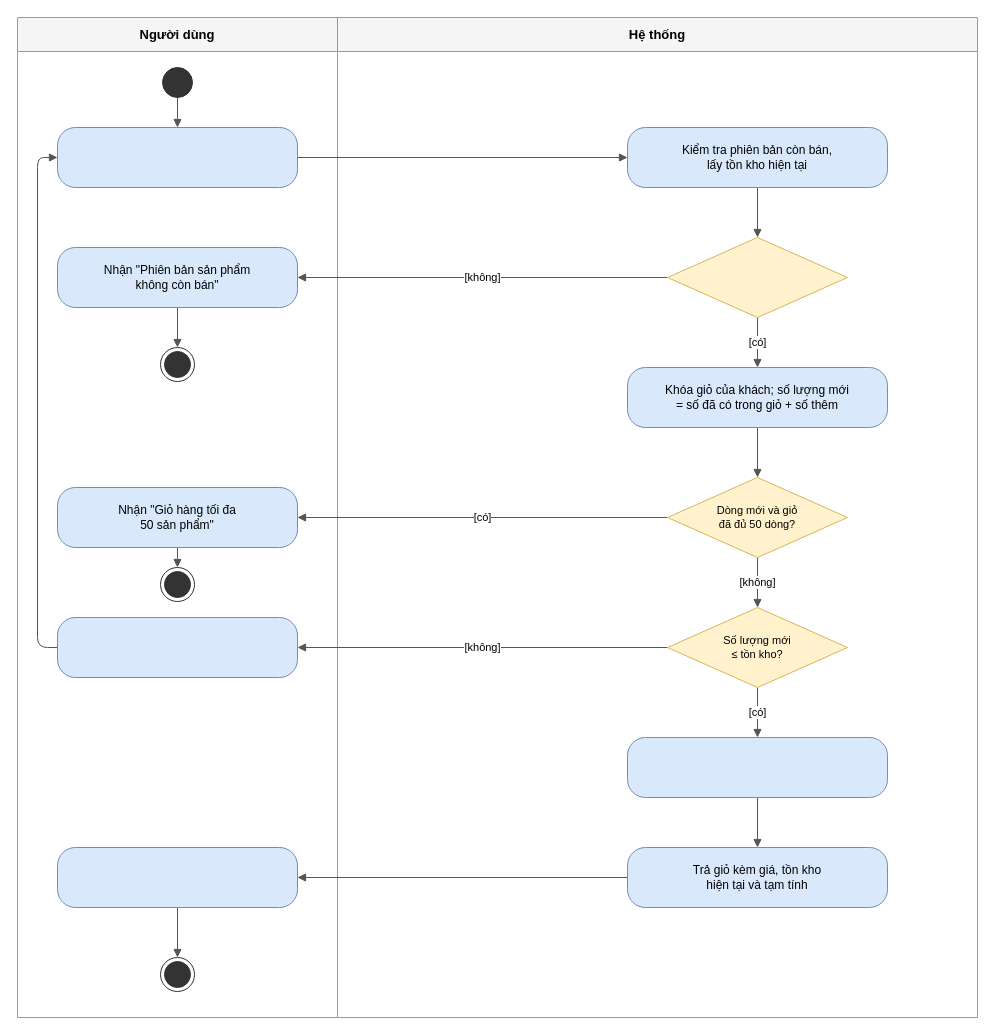
Some shapes in this 995 by 1035 pixel diagram are drawn without their labels. The box of each missing label's shape, as (x1, y1, x2, y2) in pixels:
Chọn phiên bản, số lượng, bấm Thêm vào giỏ: (56, 126, 298, 188)
Còn bán?: (666, 236, 848, 318)
Lưu dòng giỏ (thêm mới hoặc cập nhật số lượng): (626, 736, 888, 798)
Nhận "Chỉ còn N sản phẩm trong kho", giảm số lượng: (56, 616, 298, 678)
Xem giỏ hàng đã cập nhật: (56, 846, 298, 908)
